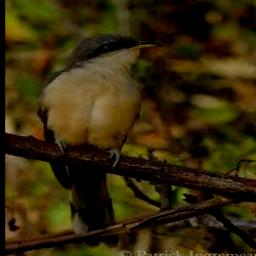Cuckoo: (35, 35, 163, 248)
